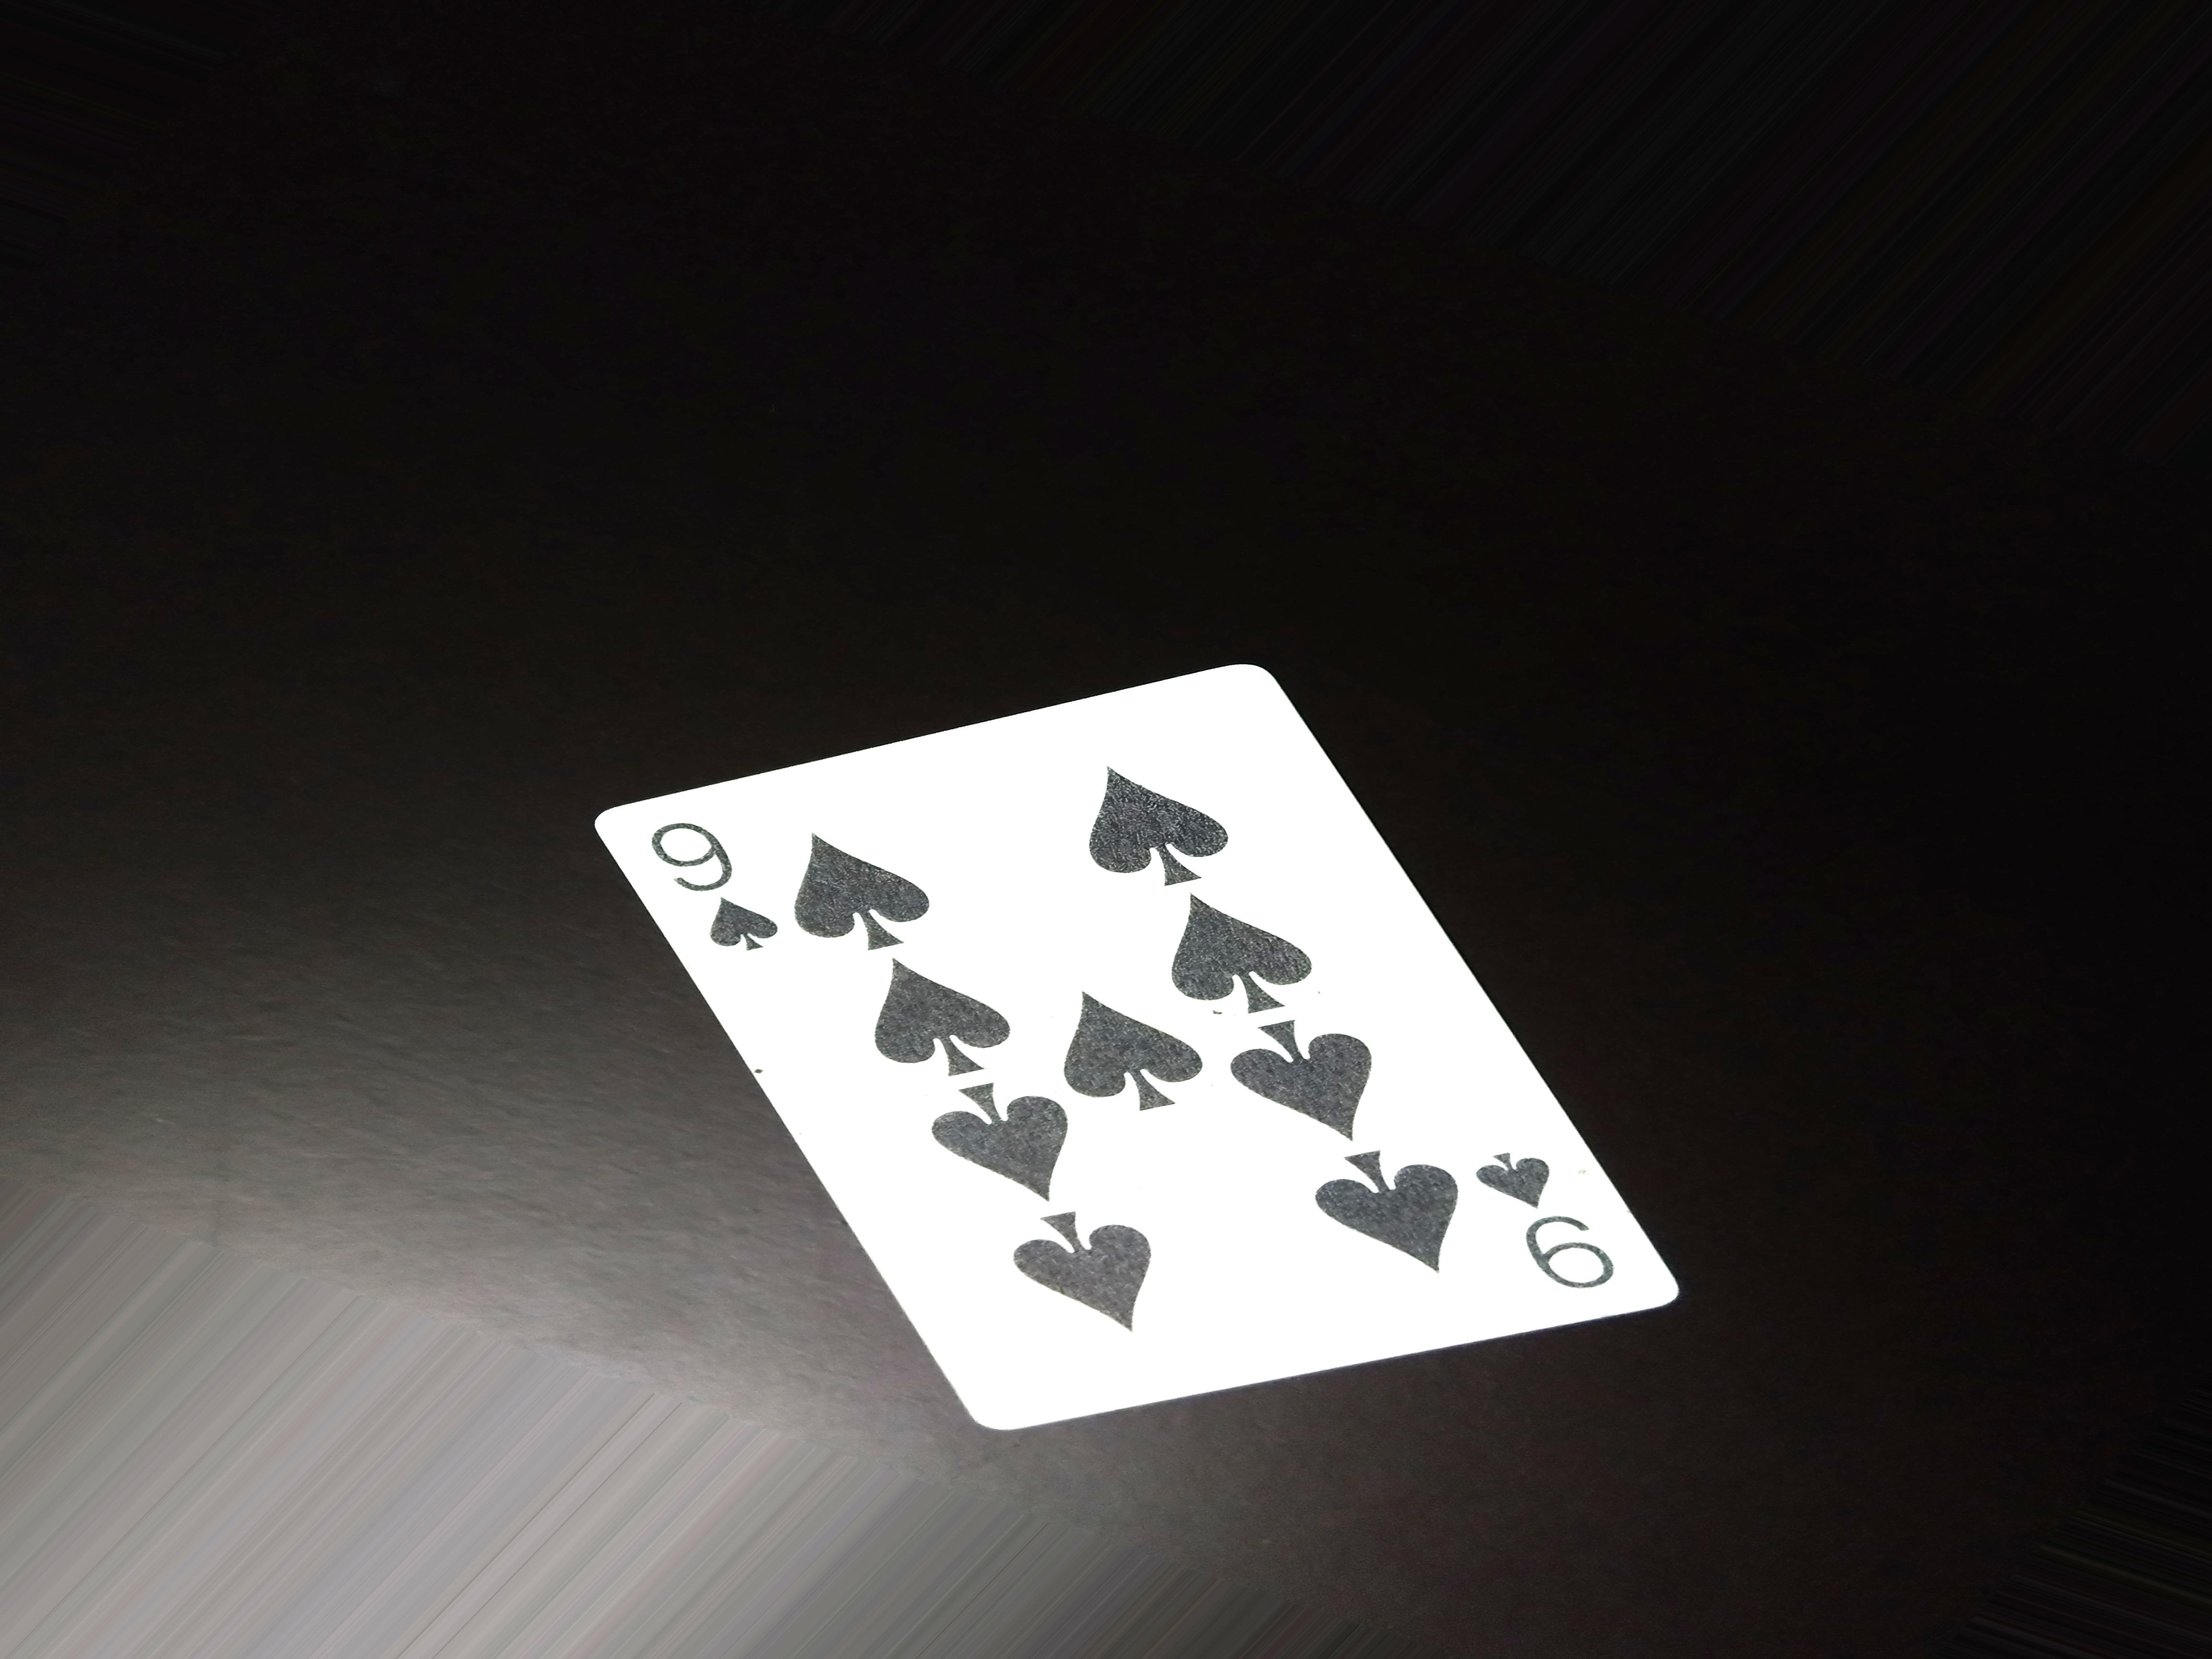9S: (629, 810, 815, 992)
